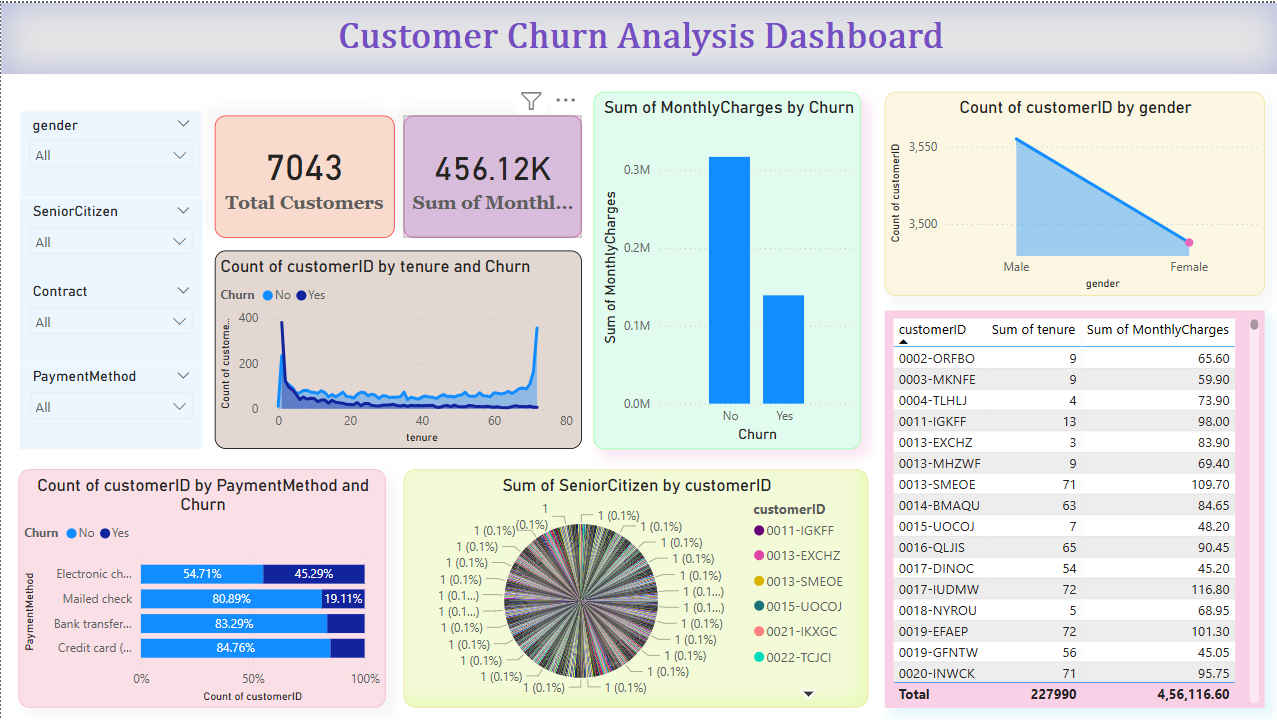

This screenshot's page, from the dashboard's own definition file:
{"tool":"powerbi","page":{"name":"Page 1","canvas":[1280,720],"ordinal":0},"visuals":[{"type":"textbox","box":[0,0,1280,71.2],"z":0},{"type":"slicer","fields":{"Values":["churn.gender"]},"box":[18.8,107.5,182.5,87.5],"z":1000},{"type":"slicer","fields":{"Values":["churn.SeniorCitizen"]},"box":[18.8,195,182.5,80],"z":2000},{"type":"slicer","fields":{"Values":["churn.Contract"]},"box":[18.8,275,182.5,85],"z":3000},{"type":"slicer","fields":{"Values":["churn.PaymentMethod"]},"box":[18.8,360,182.5,86.2],"z":4000},{"type":"card","fields":{"Values":["Sum(churn.MonthlyCharges)"]},"box":[402.5,112.5,178.8,122.5],"z":6000},{"type":"card","fields":{"Values":["churn.Total Customers"]},"box":[213.8,112.5,180,122.5],"z":7000},{"type":"hundredPercentStackedBarChart","fields":{"Category":["churn.PaymentMethod"],"Series":["churn.Churn"],"Y":["CountNonNull(churn.customerID)"]},"box":[17.5,466.2,367.5,238.8],"z":8000},{"type":"areaChart","fields":{"Category":["churn.gender"],"Y":["CountNonNull(churn.customerID)"]},"box":[883.8,88.8,380,203.8],"z":10000},{"type":"columnChart","fields":{"Category":["churn.Churn"],"Y":["Sum(churn.MonthlyCharges)"]},"box":[592.5,88.8,267.5,357.5],"z":10001},{"type":"pieChart","fields":{"Y":["Sum(churn.SeniorCitizen)"],"Category":["churn.customerID"]},"box":[402.5,466.2,465,238.8],"z":10003},{"type":"tableEx","fields":{"Values":["churn.customerID","Sum(churn.tenure)","Sum(churn.MonthlyCharges)"]},"box":[883.8,307.5,380,397.5],"z":10004},{"type":"areaChart","fields":{"Category":["churn.tenure"],"Y":["CountNonNull(churn.customerID)"],"Series":["churn.Churn"]},"box":[213.8,247.5,367.5,198.8],"z":10005}]}

Visuals, with their boxes in screenshot pixels (x1, y1, x2, y2), scaled from the page's 1280x720 canvas onto the 1277x720 screenshot:
textbox: bbox(0, 0, 1276, 71)
slicer - churn.gender: bbox(19, 108, 201, 195)
slicer - churn.SeniorCitizen: bbox(19, 195, 201, 275)
slicer - churn.Contract: bbox(19, 275, 201, 360)
slicer - churn.PaymentMethod: bbox(19, 360, 201, 446)
card - Sum(churn.MonthlyCharges): bbox(402, 112, 580, 235)
card - churn.Total Customers: bbox(213, 112, 393, 235)
hundredPercentStackedBarChart - churn.PaymentMethod x churn.Churn: bbox(17, 466, 384, 705)
areaChart - churn.gender x CountNonNull(churn.customerID): bbox(882, 89, 1261, 293)
columnChart - churn.Churn x Sum(churn.MonthlyCharges): bbox(591, 89, 858, 446)
pieChart - Sum(churn.SeniorCitizen) x churn.customerID: bbox(402, 466, 865, 705)
tableEx - churn.customerID x Sum(churn.tenure): bbox(882, 308, 1261, 705)
areaChart - churn.tenure x CountNonNull(churn.customerID): bbox(213, 248, 580, 446)
